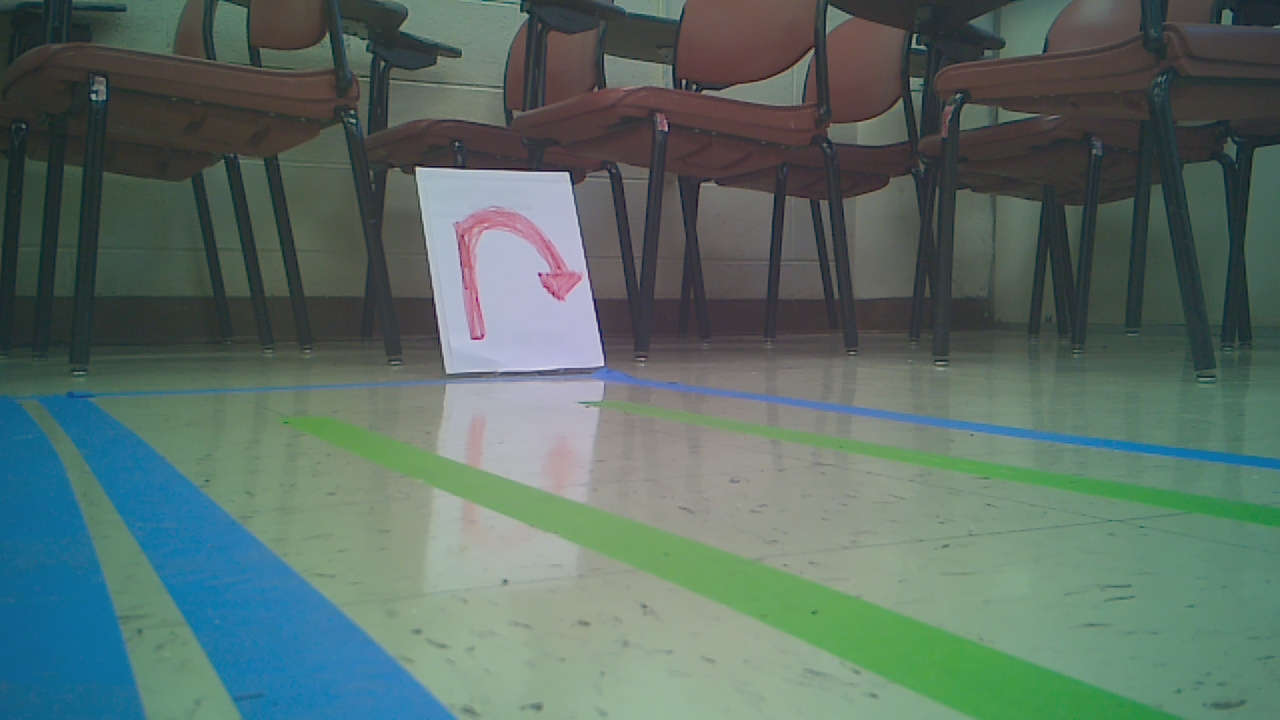greenline: (268, 407, 1161, 720), (591, 403, 1277, 527)
uturn: (453, 190, 586, 343)
